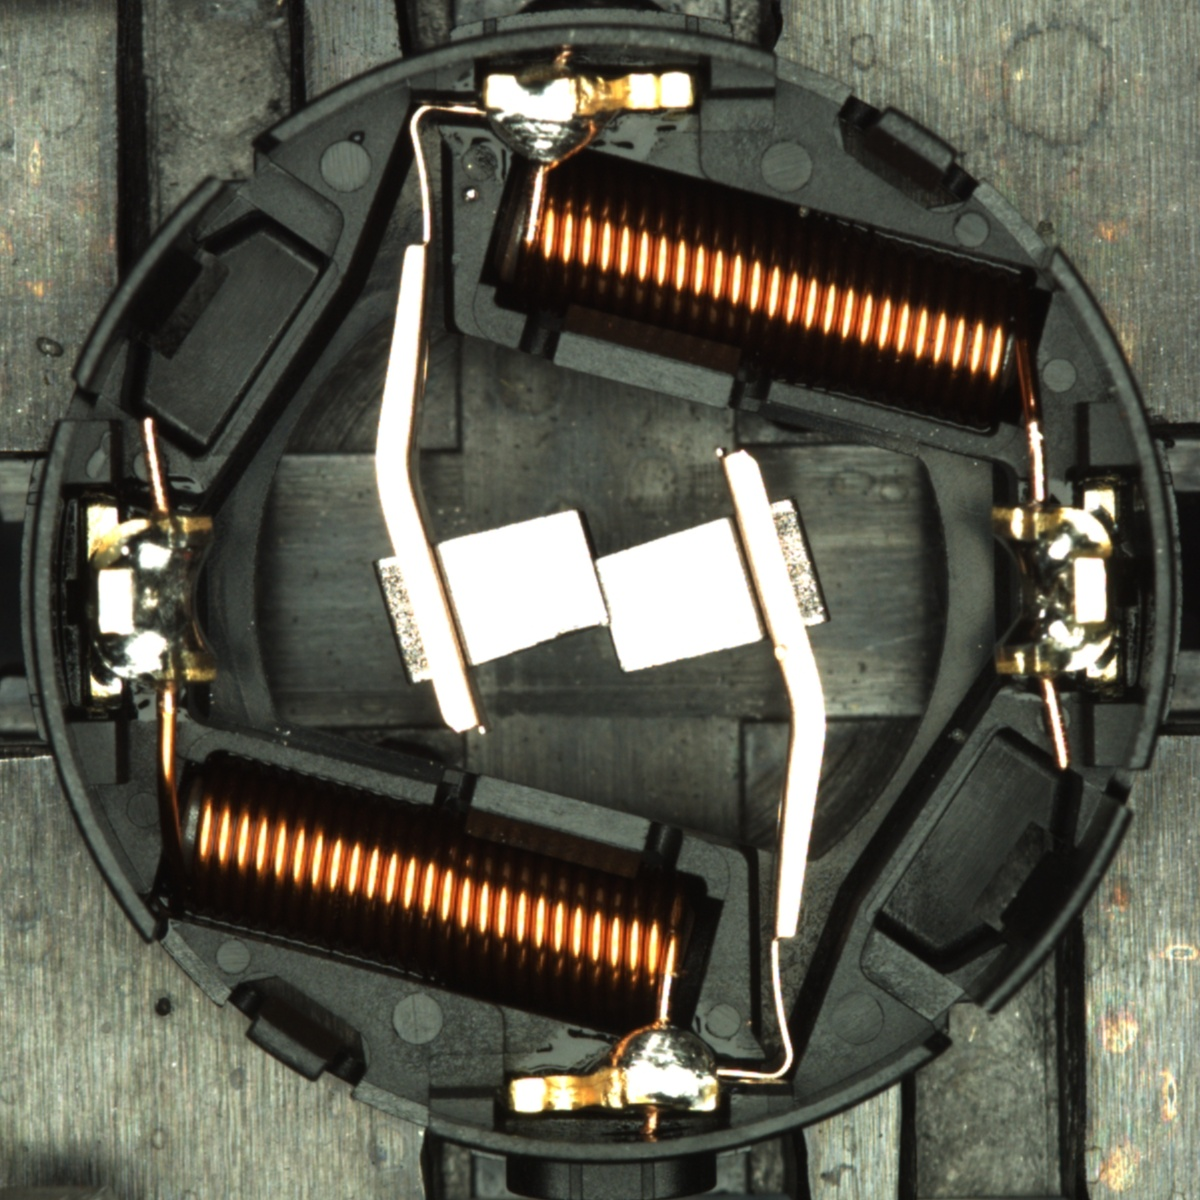1: (253, 30, 482, 254), (711, 927, 941, 1152)
2: (711, 30, 941, 254), (253, 927, 482, 1152)
3: (941, 702, 1169, 927), (23, 254, 253, 478)
4: (711, 702, 941, 927), (253, 254, 482, 478)
5: (482, 142, 711, 366), (482, 815, 711, 1040)
6: (253, 702, 482, 927), (711, 254, 941, 478)
7: (23, 702, 253, 927), (941, 254, 1169, 478)
bui_chi: (462, 185, 479, 204)
cacbon: (392, 497, 801, 684)
chau_dien: (80, 498, 223, 702), (984, 487, 1124, 686)
tay_choi: (482, 69, 698, 173), (509, 1018, 722, 1116)
thanh_de: (954, 787, 1141, 1030), (59, 163, 244, 404)
